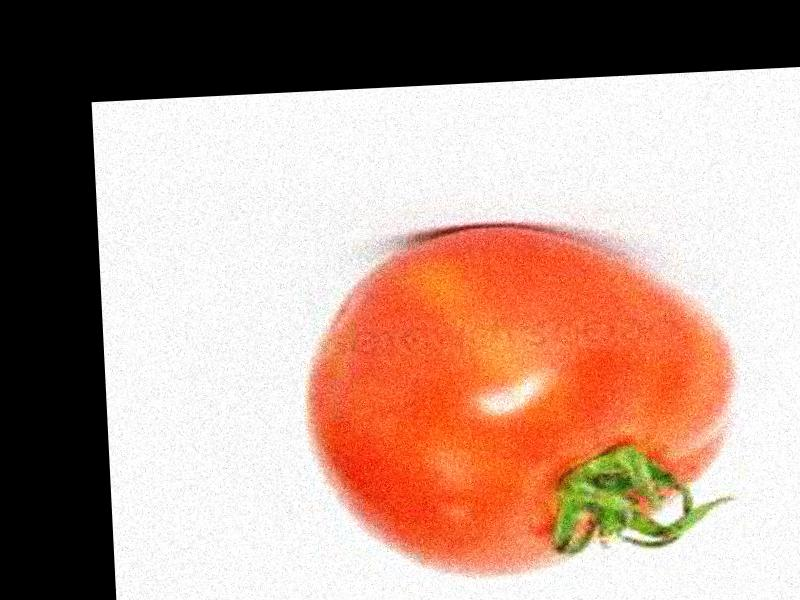Tomato: (299, 215, 744, 590)
